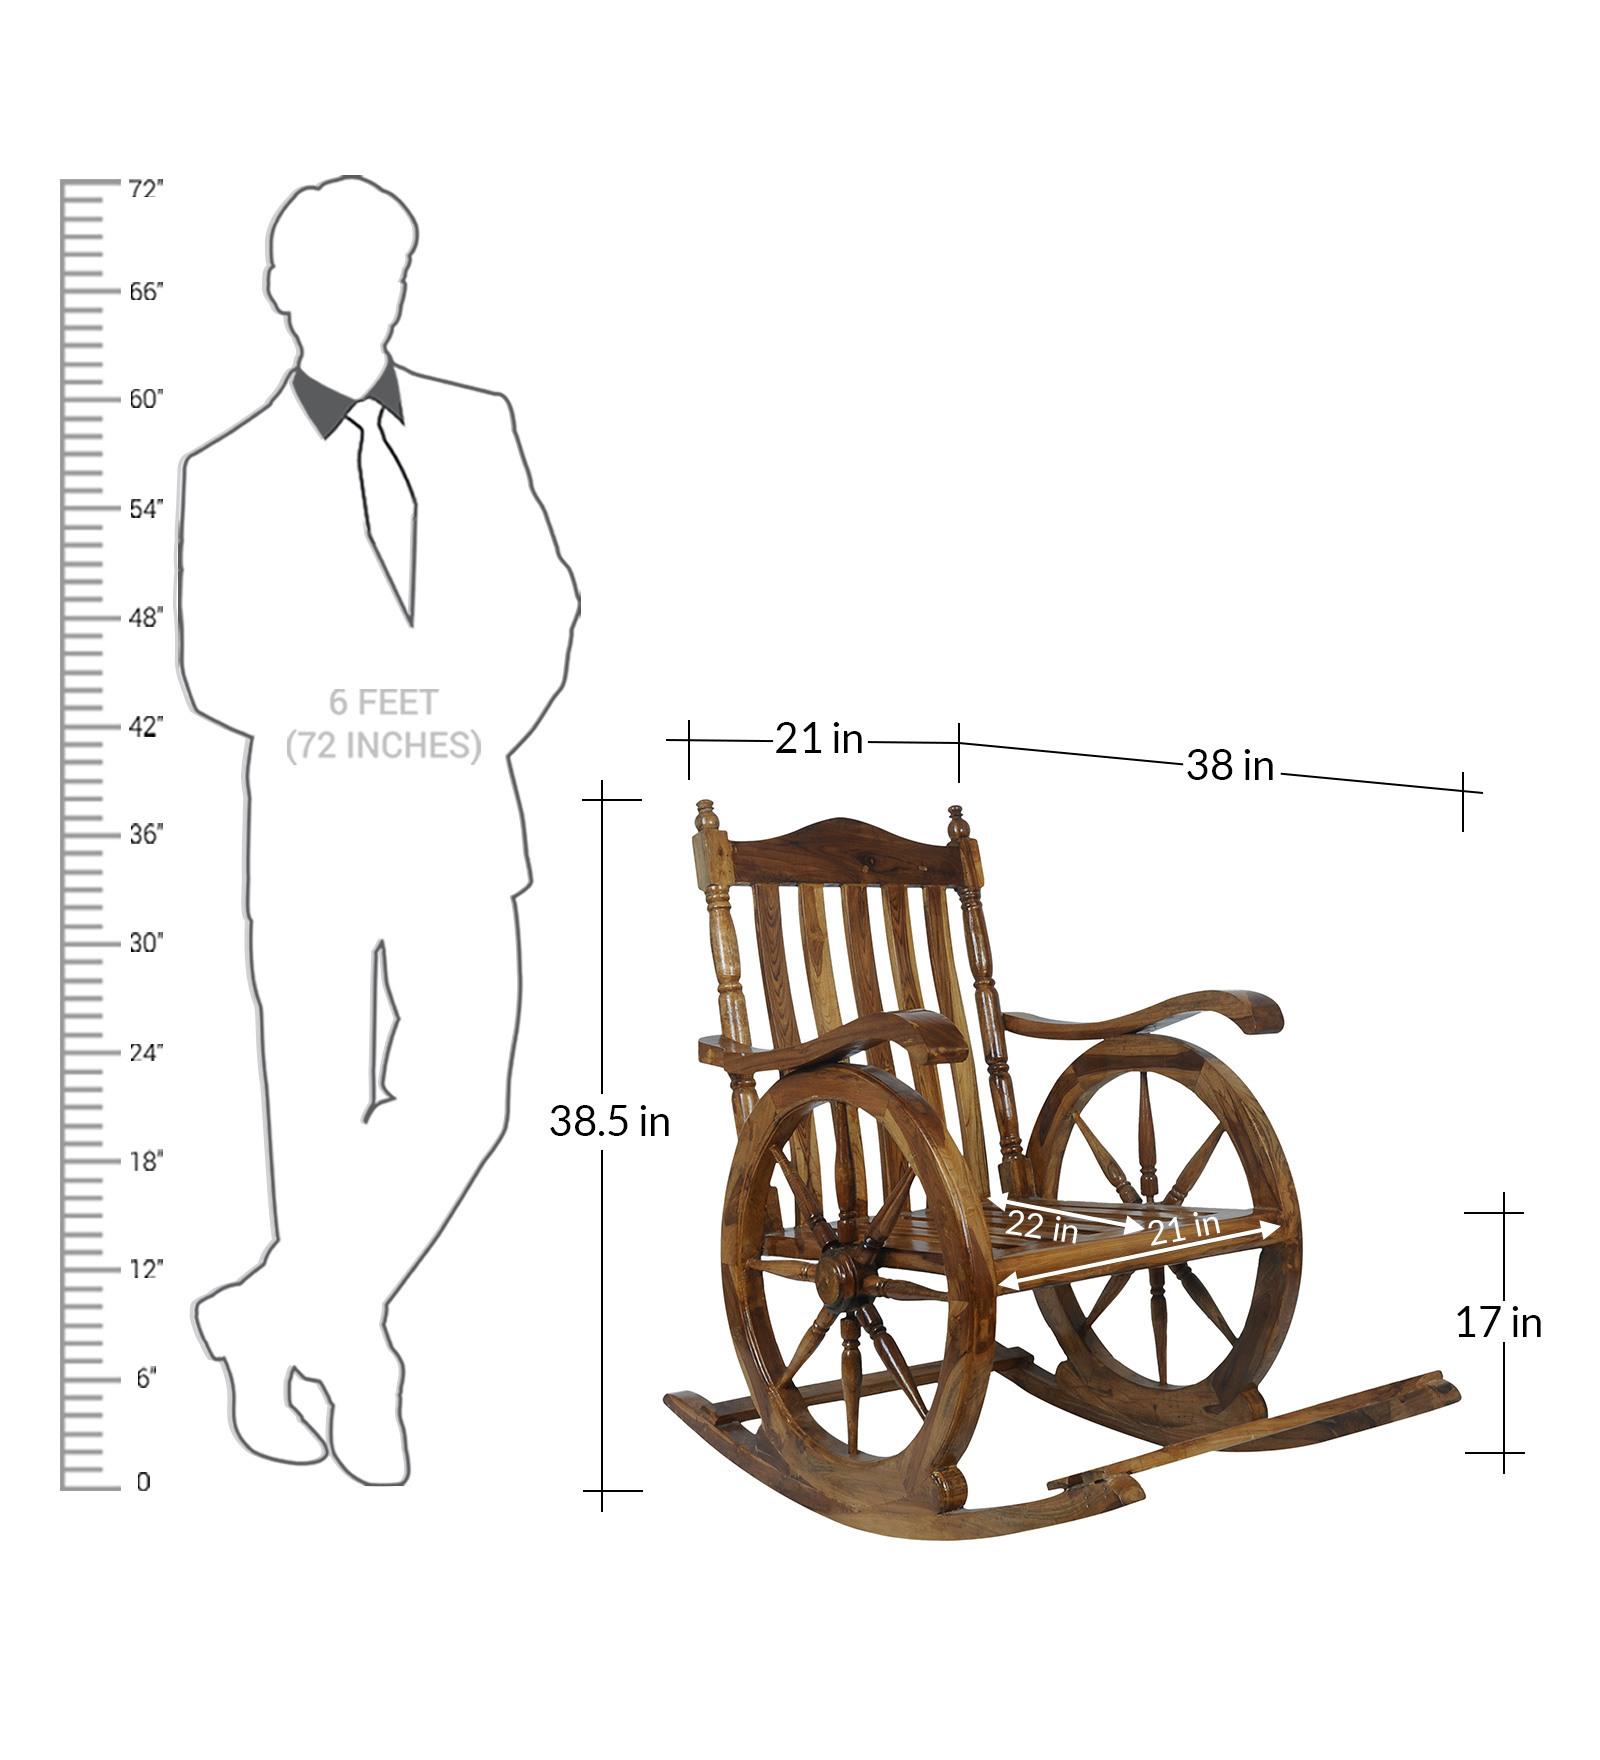Chariot Teak Wood Rocking Chair in Natural Finish by Furniease: (664, 785, 1484, 1593)
